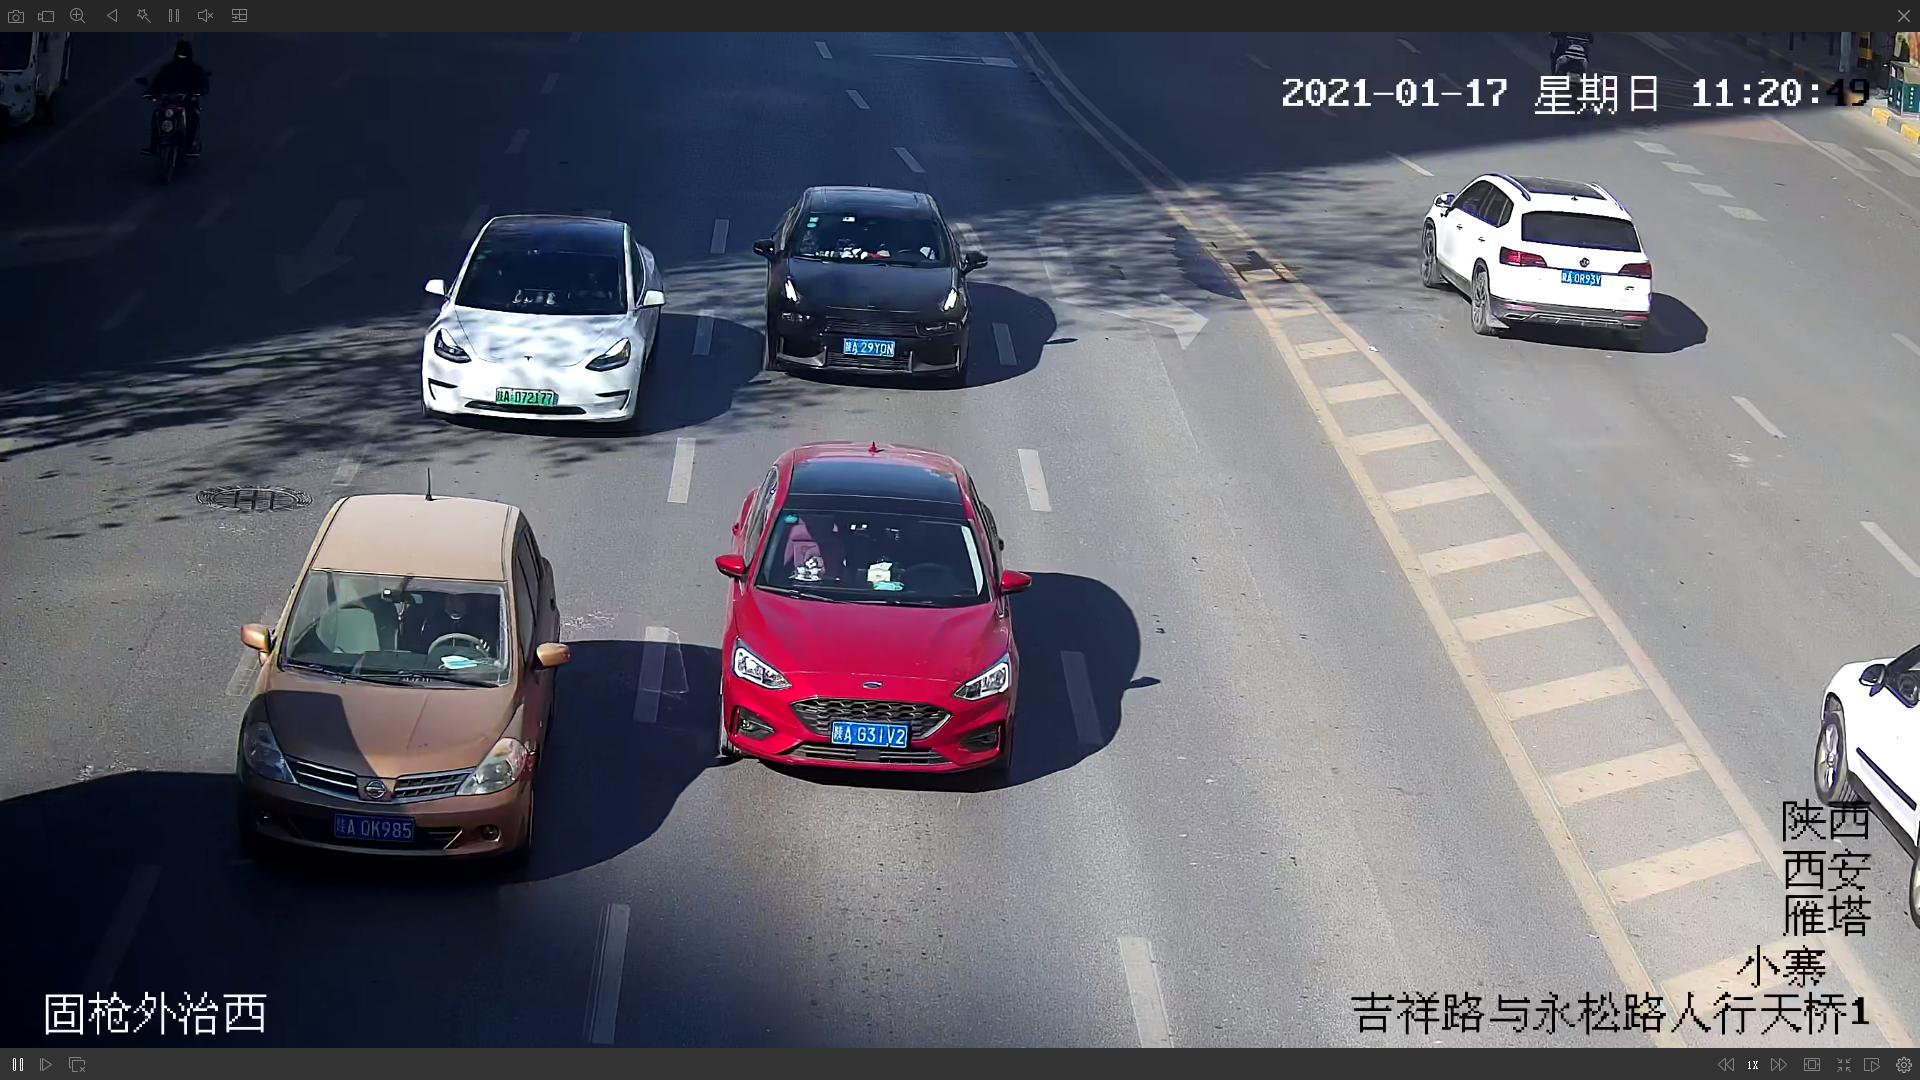black: (760, 183, 984, 392)
brown: (237, 484, 563, 884)
red: (708, 444, 1029, 800)
white: (414, 200, 661, 431)
